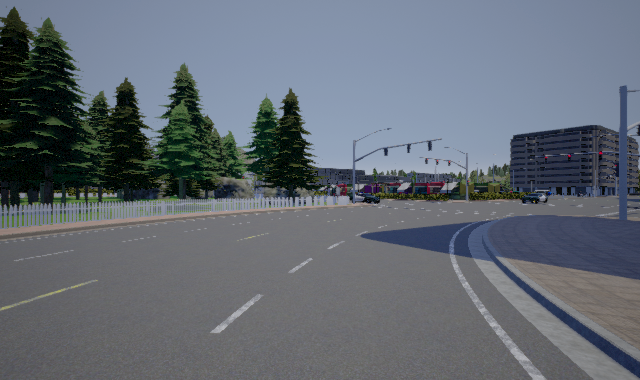traffic_light: (613, 163, 619, 177), (636, 125, 640, 136), (599, 152, 602, 160), (545, 156, 548, 163), (568, 154, 571, 161), (448, 160, 451, 166), (436, 159, 439, 165), (425, 158, 428, 164)
vehicle: (350, 190, 382, 206), (522, 190, 552, 204)
